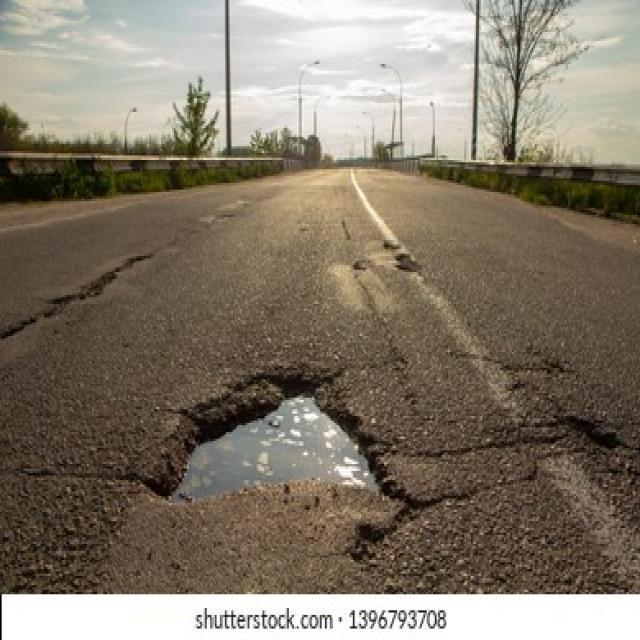pothole: (141, 364, 402, 506), (0, 249, 151, 345), (563, 414, 621, 455), (396, 252, 419, 275), (383, 240, 401, 252)
